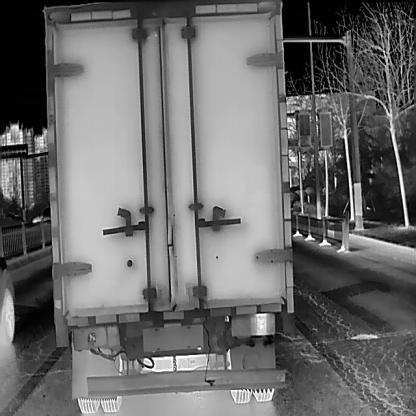truck: (39, 0, 293, 413)
